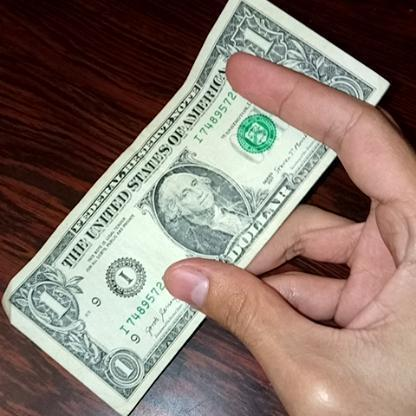one-front: (1, 0, 404, 412)
